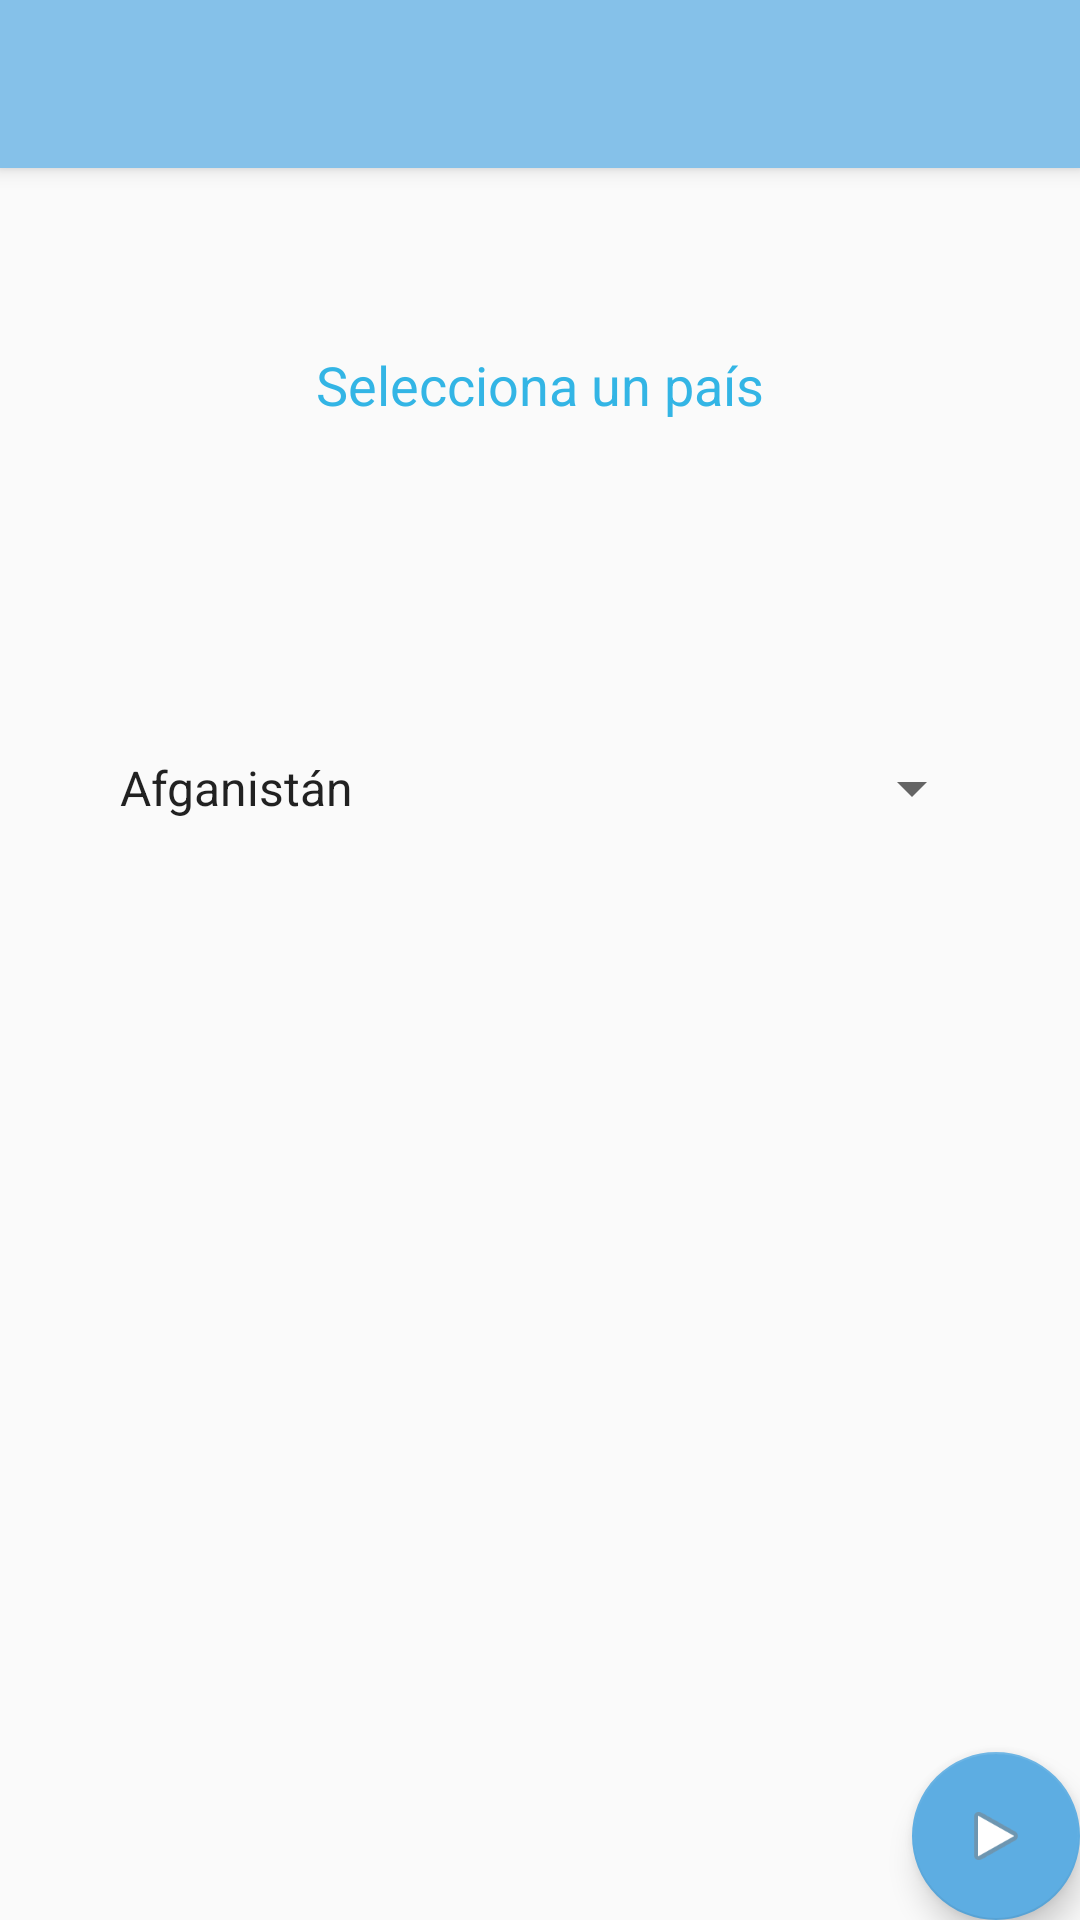

Icons on this 1080×1920 Android screen, each with the point to tap as point (x, y):
play: point (996, 1836)
